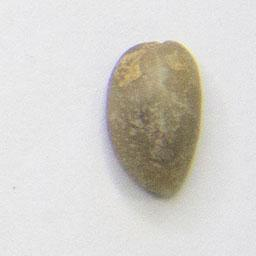longberry: (101, 37, 205, 201)
